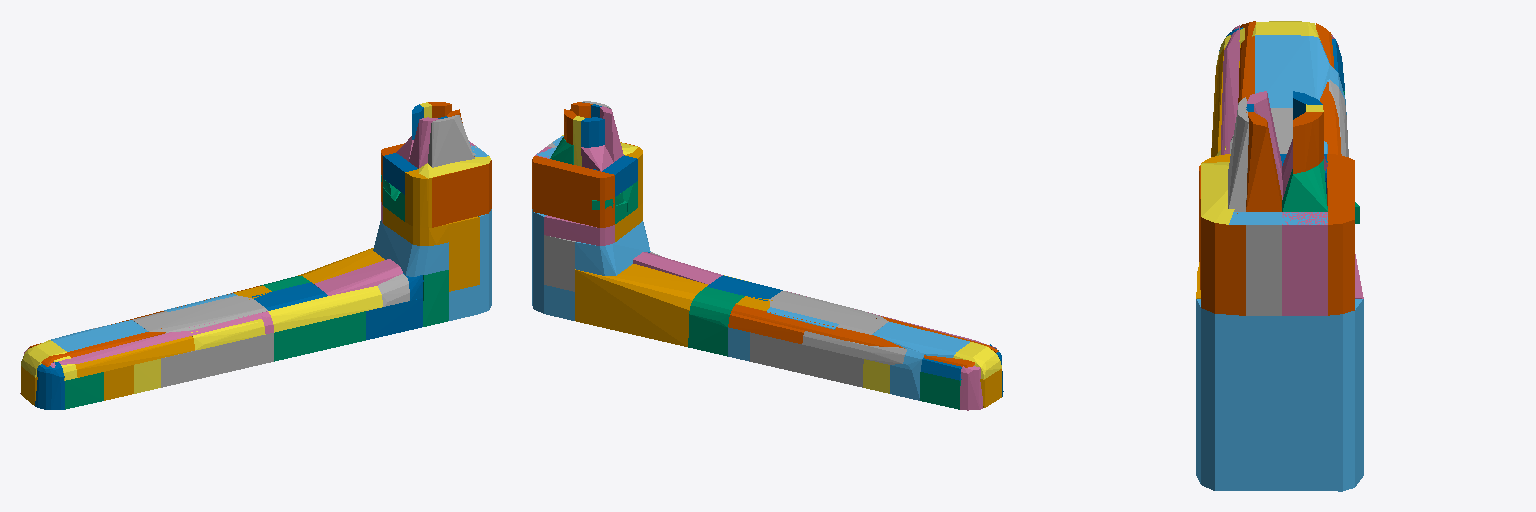
--- Facts derived from the render (not from the file) ---
Views: 3 orthographic renders of the robot side by side, from view 1: azimuth 30°, elevation 25°; view 2: azimuth 150°, elevation 25°; view 3: azimuth 270°, elevation 25°.
Robot: root — 64 links, 63 joints (63 fixed); root link link_handle~handle6_convex_piece_0; default pose: all joints at 0.
Visible links, largest first — view 1: link_handle~handle6_convex_piece_63, link_handle~handle6_convex_piece_21, link_handle~handle6_convex_piece_58, link_handle~handle6_convex_piece_35, link_handle~handle6_convex_piece_47, link_handle~handle6_convex_piece_49, link_handle~handle6_convex_piece_8, link_handle~handle6_convex_piece_55, link_handle~handle6_convex_piece_48, link_handle~handle6_convex_piece_44, link_handle~handle6_convex_piece_46, link_handle~handle6_convex_piece_38 (+19 smaller); view 2: link_handle~handle6_convex_piece_56, link_handle~handle6_convex_piece_45, link_handle~handle6_convex_piece_63, link_handle~handle6_convex_piece_34, link_handle~handle6_convex_piece_49, link_handle~handle6_convex_piece_47, link_handle~handle6_convex_piece_61, link_handle~handle6_convex_piece_41, link_handle~handle6_convex_piece_7, link_handle~handle6_convex_piece_22, link_handle~handle6_convex_piece_57, link_handle~handle6_convex_piece_25 (+17 smaller); view 3: link_handle~handle6_convex_piece_25, link_handle~handle6_convex_piece_6, link_handle~handle6_convex_piece_41, link_handle~handle6_convex_piece_45, link_handle~handle6_convex_piece_21, link_handle~handle6_convex_piece_15, link_handle~handle6_convex_piece_53, link_handle~handle6_convex_piece_55, link_handle~handle6_convex_piece_26, link_handle~handle6_convex_piece_29, link_handle~handle6_convex_piece_38, link_handle~handle6_convex_piece_43 (+7 smaller).
Boxes of the visible links, x1,y1,x2,y2 form: link_handle~handle6_convex_piece_63: (161,333,273,387); link_handle~handle6_convex_piece_21: (432,156,491,227); link_handle~handle6_convex_piece_58: (274,311,365,361); link_handle~handle6_convex_piece_35: (268,286,382,332); link_handle~handle6_convex_piece_47: (134,295,267,333); link_handle~handle6_convex_piece_49: (373,220,448,276); link_handle~handle6_convex_piece_8: (449,216,479,291); link_handle~handle6_convex_piece_55: (428,115,474,167); link_handle~handle6_convex_piece_48: (75,336,194,377); link_handle~handle6_convex_piece_44: (366,298,422,339); link_handle~handle6_convex_piece_46: (314,259,402,295); link_handle~handle6_convex_piece_38: (50,313,261,367); link_handle~handle6_convex_piece_56: (575,264,707,346); link_handle~handle6_convex_piece_45: (532,156,614,227); link_handle~handle6_convex_piece_63: (750,332,863,387); link_handle~handle6_convex_piece_34: (688,287,744,356); link_handle~handle6_convex_piece_49: (575,221,650,275); link_handle~handle6_convex_piece_47: (769,291,888,332); link_handle~handle6_convex_piece_61: (731,304,974,367); link_handle~handle6_convex_piece_41: (872,322,969,357); link_handle~handle6_convex_piece_7: (544,235,575,291); link_handle~handle6_convex_piece_22: (544,215,614,245); link_handle~handle6_convex_piece_57: (890,348,924,400); link_handle~handle6_convex_piece_25: (532,209,546,313); link_handle~handle6_convex_piece_25: (1196,299,1363,491); link_handle~handle6_convex_piece_6: (1282,212,1327,315); link_handle~handle6_convex_piece_41: (1255,35,1329,107); link_handle~handle6_convex_piece_45: (1327,154,1354,315); link_handle~handle6_convex_piece_21: (1199,166,1245,315); link_handle~handle6_convex_piece_15: (1246,225,1281,315); link_handle~handle6_convex_piece_53: (1246,112,1281,211); link_handle~handle6_convex_piece_55: (1228,97,1248,211); link_handle~handle6_convex_piece_26: (1282,159,1327,211); link_handle~handle6_convex_piece_29: (1293,112,1323,173); link_handle~handle6_convex_piece_38: (1221,25,1239,154); link_handle~handle6_convex_piece_43: (1201,162,1234,224).
Bounding box of the posed robot: 0.1277 × 0.0227 × 0.052 m (x, y, z).
64 mesh visuals loaded from 64 distinct referenced files (64 OBJ).

URDF robot description (root):
<robot name="root">
  <link name="link_handle~handle6_convex_piece_0">
    <inertial>
      <origin xyz="0 0 0" rpy="0 0 0"/>
      <mass value="9.66E-04"/>
      <inertia ixx="1.10E-07" ixy="-2.01E-07" ixz="-5.53E-07" iyy="3.87E-06" iyz="-3.13E-08" izz="3.80E-06"/>
    </inertial>
    <visual>
      <origin xyz="0 0 0" rpy="0 0 0"/>
      <geometry>
        <mesh filename="handle~handle6_convex_piece_0.obj" scale="1.0000E+00 1.0000E+00 1.0000E+00"/>
      </geometry>
      <material name=""/>
    </visual>
    <collision>
      <origin xyz="0 0 0" rpy="0 0 0"/>
      <geometry>
        <mesh filename="handle~handle6_convex_piece_0.obj" scale="1.0000E+00 1.0000E+00 1.0000E+00"/>
      </geometry>
    </collision>
  </link>
  <link name="link_handle~handle6_convex_piece_1">
    <inertial>
      <origin xyz="0 0 0" rpy="0 0 0"/>
      <mass value="5.49E-04"/>
      <inertia ixx="7.18E-08" ixy="4.76E-08" ixz="-7.96E-08" iyy="1.89E-07" iyz="2.88E-08" izz="1.57E-07"/>
    </inertial>
    <visual>
      <origin xyz="0 0 0" rpy="0 0 0"/>
      <geometry>
        <mesh filename="handle~handle6_convex_piece_1.obj" scale="1.0000E+00 1.0000E+00 1.0000E+00"/>
      </geometry>
      <material name=""/>
    </visual>
    <collision>
      <origin xyz="0 0 0" rpy="0 0 0"/>
      <geometry>
        <mesh filename="handle~handle6_convex_piece_1.obj" scale="1.0000E+00 1.0000E+00 1.0000E+00"/>
      </geometry>
    </collision>
  </link>
  <joint name="link_handle~handle6_convex_piece_1_joint" type="fixed">
    <origin xyz="0 0 0" rpy="0 0 0"/>
    <parent link="link_handle~handle6_convex_piece_0"/>
    <child link="link_handle~handle6_convex_piece_1"/>
  </joint>
  <link name="link_handle~handle6_convex_piece_2">
    <inertial>
      <origin xyz="0 0 0" rpy="0 0 0"/>
      <mass value="1.30E-03"/>
      <inertia ixx="1.38E-07" ixy="1.82E-07" ixz="2.47E-07" iyy="1.01E-06" iyz="-4.94E-08" izz="9.71E-07"/>
    </inertial>
    <visual>
      <origin xyz="0 0 0" rpy="0 0 0"/>
      <geometry>
        <mesh filename="handle~handle6_convex_piece_2.obj" scale="1.0000E+00 1.0000E+00 1.0000E+00"/>
      </geometry>
      <material name=""/>
    </visual>
    <collision>
      <origin xyz="0 0 0" rpy="0 0 0"/>
      <geometry>
        <mesh filename="handle~handle6_convex_piece_2.obj" scale="1.0000E+00 1.0000E+00 1.0000E+00"/>
      </geometry>
    </collision>
  </link>
  <joint name="link_handle~handle6_convex_piece_2_joint" type="fixed">
    <origin xyz="0 0 0" rpy="0 0 0"/>
    <parent link="link_handle~handle6_convex_piece_1"/>
    <child link="link_handle~handle6_convex_piece_2"/>
  </joint>
  <link name="link_handle~handle6_convex_piece_3">
    <inertial>
      <origin xyz="0 0 0" rpy="0 0 0"/>
      <mass value="1.32E-03"/>
      <inertia ixx="1.67E-07" ixy="3.47E-09" ixz="-6.91E-07" iyy="4.07E-06" iyz="2.85E-10" izz="3.97E-06"/>
    </inertial>
    <visual>
      <origin xyz="0 0 0" rpy="0 0 0"/>
      <geometry>
        <mesh filename="handle~handle6_convex_piece_3.obj" scale="1.0000E+00 1.0000E+00 1.0000E+00"/>
      </geometry>
      <material name=""/>
    </visual>
    <collision>
      <origin xyz="0 0 0" rpy="0 0 0"/>
      <geometry>
        <mesh filename="handle~handle6_convex_piece_3.obj" scale="1.0000E+00 1.0000E+00 1.0000E+00"/>
      </geometry>
    </collision>
  </link>
  <joint name="link_handle~handle6_convex_piece_3_joint" type="fixed">
    <origin xyz="0 0 0" rpy="0 0 0"/>
    <parent link="link_handle~handle6_convex_piece_2"/>
    <child link="link_handle~handle6_convex_piece_3"/>
  </joint>
  <link name="link_handle~handle6_convex_piece_4">
    <inertial>
      <origin xyz="0 0 0" rpy="0 0 0"/>
      <mass value="1.26E-04"/>
      <inertia ixx="9.52E-09" ixy="2.07E-08" ixz="8.66E-09" iyy="5.88E-08" iyz="-3.23E-09" izz="6.50E-08"/>
    </inertial>
    <visual>
      <origin xyz="0 0 0" rpy="0 0 0"/>
      <geometry>
        <mesh filename="handle~handle6_convex_piece_4.obj" scale="1.0000E+00 1.0000E+00 1.0000E+00"/>
      </geometry>
      <material name=""/>
    </visual>
    <collision>
      <origin xyz="0 0 0" rpy="0 0 0"/>
      <geometry>
        <mesh filename="handle~handle6_convex_piece_4.obj" scale="1.0000E+00 1.0000E+00 1.0000E+00"/>
      </geometry>
    </collision>
  </link>
  <joint name="link_handle~handle6_convex_piece_4_joint" type="fixed">
    <origin xyz="0 0 0" rpy="0 0 0"/>
    <parent link="link_handle~handle6_convex_piece_3"/>
    <child link="link_handle~handle6_convex_piece_4"/>
  </joint>
  <link name="link_handle~handle6_convex_piece_5">
    <inertial>
      <origin xyz="0 0 0" rpy="0 0 0"/>
      <mass value="6.37E-05"/>
      <inertia ixx="4.13E-09" ixy="-8.38E-09" ixz="-1.26E-08" iyy="7.22E-08" iyz="-1.53E-09" izz="7.01E-08"/>
    </inertial>
    <visual>
      <origin xyz="0 0 0" rpy="0 0 0"/>
      <geometry>
        <mesh filename="handle~handle6_convex_piece_5.obj" scale="1.0000E+00 1.0000E+00 1.0000E+00"/>
      </geometry>
      <material name=""/>
    </visual>
    <collision>
      <origin xyz="0 0 0" rpy="0 0 0"/>
      <geometry>
        <mesh filename="handle~handle6_convex_piece_5.obj" scale="1.0000E+00 1.0000E+00 1.0000E+00"/>
      </geometry>
    </collision>
  </link>
  <joint name="link_handle~handle6_convex_piece_5_joint" type="fixed">
    <origin xyz="0 0 0" rpy="0 0 0"/>
    <parent link="link_handle~handle6_convex_piece_4"/>
    <child link="link_handle~handle6_convex_piece_5"/>
  </joint>
  <link name="link_handle~handle6_convex_piece_6">
    <inertial>
      <origin xyz="0 0 0" rpy="0 0 0"/>
      <mass value="4.26E-04"/>
      <inertia ixx="1.64E-07" ixy="-5.77E-08" ixz="-3.39E-07" iyy="9.14E-07" iyz="-2.60E-08" izz="7.62E-07"/>
    </inertial>
    <visual>
      <origin xyz="0 0 0" rpy="0 0 0"/>
      <geometry>
        <mesh filename="handle~handle6_convex_piece_6.obj" scale="1.0000E+00 1.0000E+00 1.0000E+00"/>
      </geometry>
      <material name=""/>
    </visual>
    <collision>
      <origin xyz="0 0 0" rpy="0 0 0"/>
      <geometry>
        <mesh filename="handle~handle6_convex_piece_6.obj" scale="1.0000E+00 1.0000E+00 1.0000E+00"/>
      </geometry>
    </collision>
  </link>
  <joint name="link_handle~handle6_convex_piece_6_joint" type="fixed">
    <origin xyz="0 0 0" rpy="0 0 0"/>
    <parent link="link_handle~handle6_convex_piece_5"/>
    <child link="link_handle~handle6_convex_piece_6"/>
  </joint>
  <link name="link_handle~handle6_convex_piece_7">
    <inertial>
      <origin xyz="0 0 0" rpy="0 0 0"/>
      <mass value="7.29E-04"/>
      <inertia ixx="6.05E-08" ixy="-2.02E-07" ixz="-1.78E-08" iyy="8.79E-07" iyz="-3.95E-09" izz="9.18E-07"/>
    </inertial>
    <visual>
      <origin xyz="0 0 0" rpy="0 0 0"/>
      <geometry>
        <mesh filename="handle~handle6_convex_piece_7.obj" scale="1.0000E+00 1.0000E+00 1.0000E+00"/>
      </geometry>
      <material name=""/>
    </visual>
    <collision>
      <origin xyz="0 0 0" rpy="0 0 0"/>
      <geometry>
        <mesh filename="handle~handle6_convex_piece_7.obj" scale="1.0000E+00 1.0000E+00 1.0000E+00"/>
      </geometry>
    </collision>
  </link>
  <joint name="link_handle~handle6_convex_piece_7_joint" type="fixed">
    <origin xyz="0 0 0" rpy="0 0 0"/>
    <parent link="link_handle~handle6_convex_piece_6"/>
    <child link="link_handle~handle6_convex_piece_7"/>
  </joint>
  <link name="link_handle~handle6_convex_piece_8">
    <inertial>
      <origin xyz="0 0 0" rpy="0 0 0"/>
      <mass value="1.00E-03"/>
      <inertia ixx="1.05E-07" ixy="2.76E-07" ixz="-1.09E-07" iyy="1.23E-06" iyz="2.52E-08" izz="1.26E-06"/>
    </inertial>
    <visual>
      <origin xyz="0 0 0" rpy="0 0 0"/>
      <geometry>
        <mesh filename="handle~handle6_convex_piece_8.obj" scale="1.0000E+00 1.0000E+00 1.0000E+00"/>
      </geometry>
      <material name=""/>
    </visual>
    <collision>
      <origin xyz="0 0 0" rpy="0 0 0"/>
      <geometry>
        <mesh filename="handle~handle6_convex_piece_8.obj" scale="1.0000E+00 1.0000E+00 1.0000E+00"/>
      </geometry>
    </collision>
  </link>
  <joint name="link_handle~handle6_convex_piece_8_joint" type="fixed">
    <origin xyz="0 0 0" rpy="0 0 0"/>
    <parent link="link_handle~handle6_convex_piece_7"/>
    <child link="link_handle~handle6_convex_piece_8"/>
  </joint>
  <link name="link_handle~handle6_convex_piece_9">
    <inertial>
      <origin xyz="0 0 0" rpy="0 0 0"/>
      <mass value="0.00E+00"/>
      <inertia ixx="0.00E+00" ixy="-0.00E+00" ixz="-5.80E-23" iyy="0.00E+00" iyz="-0.00E+00" izz="0.00E+00"/>
    </inertial>
    <visual>
      <origin xyz="0 0 0" rpy="0 0 0"/>
      <geometry>
        <mesh filename="handle~handle6_convex_piece_9.obj" scale="1.0000E+00 1.0000E+00 1.0000E+00"/>
      </geometry>
      <material name=""/>
    </visual>
    <collision>
      <origin xyz="0 0 0" rpy="0 0 0"/>
      <geometry>
        <mesh filename="handle~handle6_convex_piece_9.obj" scale="1.0000E+00 1.0000E+00 1.0000E+00"/>
      </geometry>
    </collision>
  </link>
  <joint name="link_handle~handle6_convex_piece_9_joint" type="fixed">
    <origin xyz="0 0 0" rpy="0 0 0"/>
    <parent link="link_handle~handle6_convex_piece_8"/>
    <child link="link_handle~handle6_convex_piece_9"/>
  </joint>
  <link name="link_handle~handle6_convex_piece_10">
    <inertial>
      <origin xyz="0 0 0" rpy="0 0 0"/>
      <mass value="7.95E-05"/>
      <inertia ixx="2.95E-08" ixy="-1.14E-08" ixz="-3.44E-08" iyy="7.14E-08" iyz="-8.72E-09" izz="4.84E-08"/>
    </inertial>
    <visual>
      <origin xyz="0 0 0" rpy="0 0 0"/>
      <geometry>
        <mesh filename="handle~handle6_convex_piece_10.obj" scale="1.0000E+00 1.0000E+00 1.0000E+00"/>
      </geometry>
      <material name=""/>
    </visual>
    <collision>
      <origin xyz="0 0 0" rpy="0 0 0"/>
      <geometry>
        <mesh filename="handle~handle6_convex_piece_10.obj" scale="1.0000E+00 1.0000E+00 1.0000E+00"/>
      </geometry>
    </collision>
  </link>
  <joint name="link_handle~handle6_convex_piece_10_joint" type="fixed">
    <origin xyz="0 0 0" rpy="0 0 0"/>
    <parent link="link_handle~handle6_convex_piece_9"/>
    <child link="link_handle~handle6_convex_piece_10"/>
  </joint>
  <link name="link_handle~handle6_convex_piece_11">
    <inertial>
      <origin xyz="0 0 0" rpy="0 0 0"/>
      <mass value="1.10E-04"/>
      <inertia ixx="8.50E-08" ixy="-1.58E-08" ixz="-9.57E-08" iyy="2.02E-07" iyz="-1.29E-08" izz="1.21E-07"/>
    </inertial>
    <visual>
      <origin xyz="0 0 0" rpy="0 0 0"/>
      <geometry>
        <mesh filename="handle~handle6_convex_piece_11.obj" scale="1.0000E+00 1.0000E+00 1.0000E+00"/>
      </geometry>
      <material name=""/>
    </visual>
    <collision>
      <origin xyz="0 0 0" rpy="0 0 0"/>
      <geometry>
        <mesh filename="handle~handle6_convex_piece_11.obj" scale="1.0000E+00 1.0000E+00 1.0000E+00"/>
      </geometry>
    </collision>
  </link>
  <joint name="link_handle~handle6_convex_piece_11_joint" type="fixed">
    <origin xyz="0 0 0" rpy="0 0 0"/>
    <parent link="link_handle~handle6_convex_piece_10"/>
    <child link="link_handle~handle6_convex_piece_11"/>
  </joint>
  <link name="link_handle~handle6_convex_piece_12">
    <inertial>
      <origin xyz="0 0 0" rpy="0 0 0"/>
      <mass value="5.61E-05"/>
      <inertia ixx="4.03E-09" ixy="2.89E-08" ixz="-1.80E-08" iyy="2.95E-07" iyz="1.80E-09" izz="2.97E-07"/>
    </inertial>
    <visual>
      <origin xyz="0 0 0" rpy="0 0 0"/>
      <geometry>
        <mesh filename="handle~handle6_convex_piece_12.obj" scale="1.0000E+00 1.0000E+00 1.0000E+00"/>
      </geometry>
      <material name=""/>
    </visual>
    <collision>
      <origin xyz="0 0 0" rpy="0 0 0"/>
      <geometry>
        <mesh filename="handle~handle6_convex_piece_12.obj" scale="1.0000E+00 1.0000E+00 1.0000E+00"/>
      </geometry>
    </collision>
  </link>
  <joint name="link_handle~handle6_convex_piece_12_joint" type="fixed">
    <origin xyz="0 0 0" rpy="0 0 0"/>
    <parent link="link_handle~handle6_convex_piece_11"/>
    <child link="link_handle~handle6_convex_piece_12"/>
  </joint>
  <link name="link_handle~handle6_convex_piece_13">
    <inertial>
      <origin xyz="0 0 0" rpy="0 0 0"/>
      <mass value="1.04E-04"/>
      <inertia ixx="9.44E-09" ixy="1.99E-08" ixz="-1.05E-08" iyy="6.02E-08" iyz="3.88E-09" izz="6.54E-08"/>
    </inertial>
    <visual>
      <origin xyz="0 0 0" rpy="0 0 0"/>
      <geometry>
        <mesh filename="handle~handle6_convex_piece_13.obj" scale="1.0000E+00 1.0000E+00 1.0000E+00"/>
      </geometry>
      <material name=""/>
    </visual>
    <collision>
      <origin xyz="0 0 0" rpy="0 0 0"/>
      <geometry>
        <mesh filename="handle~handle6_convex_piece_13.obj" scale="1.0000E+00 1.0000E+00 1.0000E+00"/>
      </geometry>
    </collision>
  </link>
  <joint name="link_handle~handle6_convex_piece_13_joint" type="fixed">
    <origin xyz="0 0 0" rpy="0 0 0"/>
    <parent link="link_handle~handle6_convex_piece_12"/>
    <child link="link_handle~handle6_convex_piece_13"/>
  </joint>
  <link name="link_handle~handle6_convex_piece_14">
    <inertial>
      <origin xyz="0 0 0" rpy="0 0 0"/>
      <mass value="1.01E-04"/>
      <inertia ixx="1.33E-08" ixy="5.02E-08" ixz="-7.29E-08" iyy="6.50E-07" iyz="5.75E-09" izz="6.45E-07"/>
    </inertial>
    <visual>
      <origin xyz="0 0 0" rpy="0 0 0"/>
      <geometry>
        <mesh filename="handle~handle6_convex_piece_14.obj" scale="1.0000E+00 1.0000E+00 1.0000E+00"/>
      </geometry>
      <material name=""/>
    </visual>
    <collision>
      <origin xyz="0 0 0" rpy="0 0 0"/>
      <geometry>
        <mesh filename="handle~handle6_convex_piece_14.obj" scale="1.0000E+00 1.0000E+00 1.0000E+00"/>
      </geometry>
    </collision>
  </link>
  <joint name="link_handle~handle6_convex_piece_14_joint" type="fixed">
    <origin xyz="0 0 0" rpy="0 0 0"/>
    <parent link="link_handle~handle6_convex_piece_13"/>
    <child link="link_handle~handle6_convex_piece_14"/>
  </joint>
  <link name="link_handle~handle6_convex_piece_15">
    <inertial>
      <origin xyz="0 0 0" rpy="0 0 0"/>
      <mass value="6.59E-04"/>
      <inertia ixx="2.51E-07" ixy="5.80E-08" ixz="-4.97E-07" iyy="1.30E-06" iyz="2.77E-08" izz="1.06E-06"/>
    </inertial>
    <visual>
      <origin xyz="0 0 0" rpy="0 0 0"/>
      <geometry>
        <mesh filename="handle~handle6_convex_piece_15.obj" scale="1.0000E+00 1.0000E+00 1.0000E+00"/>
      </geometry>
      <material name=""/>
    </visual>
    <collision>
      <origin xyz="0 0 0" rpy="0 0 0"/>
      <geometry>
        <mesh filename="handle~handle6_convex_piece_15.obj" scale="1.0000E+00 1.0000E+00 1.0000E+00"/>
      </geometry>
    </collision>
  </link>
  <joint name="link_handle~handle6_convex_piece_15_joint" type="fixed">
    <origin xyz="0 0 0" rpy="0 0 0"/>
    <parent link="link_handle~handle6_convex_piece_14"/>
    <child link="link_handle~handle6_convex_piece_15"/>
  </joint>
  <link name="link_handle~handle6_convex_piece_16">
    <inertial>
      <origin xyz="0 0 0" rpy="0 0 0"/>
      <mass value="3.86E-04"/>
      <inertia ixx="4.54E-08" ixy="2.08E-08" ixz="-3.15E-07" iyy="2.54E-06" iyz="2.73E-09" izz="2.50E-06"/>
    </inertial>
    <visual>
      <origin xyz="0 0 0" rpy="0 0 0"/>
      <geometry>
        <mesh filename="handle~handle6_convex_piece_16.obj" scale="1.0000E+00 1.0000E+00 1.0000E+00"/>
      </geometry>
      <material name=""/>
    </visual>
    <collision>
      <origin xyz="0 0 0" rpy="0 0 0"/>
      <geometry>
        <mesh filename="handle~handle6_convex_piece_16.obj" scale="1.0000E+00 1.0000E+00 1.0000E+00"/>
      </geometry>
    </collision>
  </link>
  <joint name="link_handle~handle6_convex_piece_16_joint" type="fixed">
    <origin xyz="0 0 0" rpy="0 0 0"/>
    <parent link="link_handle~handle6_convex_piece_15"/>
    <child link="link_handle~handle6_convex_piece_16"/>
  </joint>
  <link name="link_handle~handle6_convex_piece_17">
    <inertial>
      <origin xyz="0 0 0" rpy="0 0 0"/>
      <mass value="1.62E-03"/>
      <inertia ixx="2.50E-07" ixy="-5.65E-10" ixz="5.82E-07" iyy="2.15E-06" iyz="1.60E-10" izz="2.04E-06"/>
    </inertial>
    <visual>
      <origin xyz="0 0 0" rpy="0 0 0"/>
      <geometry>
        <mesh filename="handle~handle6_convex_piece_17.obj" scale="1.0000E+00 1.0000E+00 1.0000E+00"/>
      </geometry>
      <material name=""/>
    </visual>
    <collision>
      <origin xyz="0 0 0" rpy="0 0 0"/>
      <geometry>
        <mesh filename="handle~handle6_convex_piece_17.obj" scale="1.0000E+00 1.0000E+00 1.0000E+00"/>
      </geometry>
    </collision>
  </link>
  <joint name="link_handle~handle6_convex_piece_17_joint" type="fixed">
    <origin xyz="0 0 0" rpy="0 0 0"/>
    <parent link="link_handle~handle6_convex_piece_16"/>
    <child link="link_handle~handle6_convex_piece_17"/>
  </joint>
  <link name="link_handle~handle6_convex_piece_18">
    <inertial>
      <origin xyz="0 0 0" rpy="0 0 0"/>
      <mass value="1.58E-03"/>
      <inertia ixx="2.16E-07" ixy="1.64E-09" ixz="-1.18E-06" iyy="8.41E-06" iyz="1.56E-10" izz="8.28E-06"/>
    </inertial>
    <visual>
      <origin xyz="0 0 0" rpy="0 0 0"/>
      <geometry>
        <mesh filename="handle~handle6_convex_piece_18.obj" scale="1.0000E+00 1.0000E+00 1.0000E+00"/>
      </geometry>
      <material name=""/>
    </visual>
    <collision>
      <origin xyz="0 0 0" rpy="0 0 0"/>
      <geometry>
        <mesh filename="handle~handle6_convex_piece_18.obj" scale="1.0000E+00 1.0000E+00 1.0000E+00"/>
      </geometry>
    </collision>
  </link>
  <joint name="link_handle~handle6_convex_piece_18_joint" type="fixed">
    <origin xyz="0 0 0" rpy="0 0 0"/>
    <parent link="link_handle~handle6_convex_piece_17"/>
    <child link="link_handle~handle6_convex_piece_18"/>
  </joint>
  <link name="link_handle~handle6_convex_piece_19">
    <inertial>
      <origin xyz="0 0 0" rpy="0 0 0"/>
      <mass value="3.68E-04"/>
      <inertia ixx="1.62E-08" ixy="1.65E-11" ixz="-4.61E-08" iyy="5.04E-07" iyz="1.56E-12" izz="4.93E-07"/>
    </inertial>
    <visual>
      <origin xyz="0 0 0" rpy="0 0 0"/>
      <geometry>
        <mesh filename="handle~handle6_convex_piece_19.obj" scale="1.0000E+00 1.0000E+00 1.0000E+00"/>
      </geometry>
      <material name=""/>
    </visual>
    <collision>
      <origin xyz="0 0 0" rpy="0 0 0"/>
      <geometry>
        <mesh filename="handle~handle6_convex_piece_19.obj" scale="1.0000E+00 1.0000E+00 1.0000E+00"/>
      </geometry>
    </collision>
  </link>
  <joint name="link_handle~handle6_convex_piece_19_joint" type="fixed">
    <origin xyz="0 0 0" rpy="0 0 0"/>
    <parent link="link_handle~handle6_convex_piece_18"/>
    <child link="link_handle~handle6_convex_piece_19"/>
  </joint>
  <link name="link_handle~handle6_convex_piece_20">
    <inertial>
      <origin xyz="0 0 0" rpy="0 0 0"/>
      <mass value="1.97E-04"/>
      <inertia ixx="2.43E-08" ixy="-8.39E-08" ixz="-1.43E-07" iyy="1.27E-06" iyz="-9.60E-09" izz="1.26E-06"/>
    </inertial>
    <visual>
      <origin xyz="0 0 0" rpy="0 0 0"/>
      <geometry>
        <mesh filename="handle~handle6_convex_piece_20.obj" scale="1.0000E+00 1.0000E+00 1.0000E+00"/>
      </geometry>
      <material name=""/>
    </visual>
    <collision>
      <origin xyz="0 0 0" rpy="0 0 0"/>
      <geometry>
        <mesh filename="handle~handle6_convex_piece_20.obj" scale="1.0000E+00 1.0000E+00 1.0000E+00"/>
      </geometry>
    </collision>
  </link>
  <joint name="link_handle~handle6_convex_piece_20_joint" type="fixed">
    <origin xyz="0 0 0" rpy="0 0 0"/>
    <parent link="link_handle~handle6_convex_piece_19"/>
    <child link="link_handle~handle6_convex_piece_20"/>
  </joint>
  <link name="link_handle~handle6_convex_piece_21">
    <inertial>
      <origin xyz="0 0 0" rpy="0 0 0"/>
      <mass value="1.69E-03"/>
      <inertia ixx="7.28E-07" ixy="4.37E-07" ixz="-1.09E-06" iyy="2.65E-06" iyz="2.41E-07" izz="2.13E-06"/>
    </inertial>
    <visual>
      <origin xyz="0 0 0" rpy="0 0 0"/>
      <geometry>
        <mesh filename="handle~handle6_convex_piece_21.obj" scale="1.0000E+00 1.0000E+00 1.0000E+00"/>
      </geometry>
      <material name=""/>
    </visual>
    <collision>
      <origin xyz="0 0 0" rpy="0 0 0"/>
      <geometry>
        <mesh filename="handle~handle6_convex_piece_21.obj" scale="1.0000E+00 1.0000E+00 1.0000E+00"/>
      </geometry>
    </collision>
  </link>
  <joint name="link_handle~handle6_convex_piece_21_joint" type="fixed">
    <origin xyz="0 0 0" rpy="0 0 0"/>
    <parent link="link_handle~handle6_convex_piece_20"/>
    <child link="link_handle~handle6_convex_piece_21"/>
  </joint>
  <link name="link_handle~handle6_convex_piece_22">
    <inertial>
      <origin xyz="0 0 0" rpy="0 0 0"/>
      <mass value="4.37E-04"/>
      <inertia ixx="7.14E-08" ixy="-1.10E-07" ixz="-1.32E-07" iyy="4.75E-07" iyz="-3.41E-08" izz="4.63E-07"/>
    </inertial>
    <visual>
      <origin xyz="0 0 0" rpy="0 0 0"/>
      <geometry>
        <mesh filename="handle~handle6_convex_piece_22.obj" scale="1.0000E+00 1.0000E+00 1.0000E+00"/>
      </geometry>
      <material name=""/>
    </visual>
    <collision>
      <origin xyz="0 0 0" rpy="0 0 0"/>
      <geometry>
        <mesh filename="handle~handle6_convex_piece_22.obj" scale="1.0000E+00 1.0000E+00 1.0000E+00"/>
      </geometry>
    </collision>
  </link>
  <joint name="link_handle~handle6_convex_piece_22_joint" type="fixed">
    <origin xyz="0 0 0" rpy="0 0 0"/>
    <parent link="link_handle~handle6_convex_piece_21"/>
    <child link="link_handle~handle6_convex_piece_22"/>
  </joint>
  <link name="link_handle~handle6_convex_piece_23">
    <inertial>
      <origin xyz="0 0 0" rpy="0 0 0"/>
      <mass value="5.21E-05"/>
      <inertia ixx="4.34E-09" ixy="2.30E-08" ixz="-1.30E-08" iyy="1.66E-07" iyz="1.86E-09" izz="1.68E-07"/>
    </inertial>
    <visual>
      <origin xyz="0 0 0" rpy="0 0 0"/>
      <geometry>
        <mesh filename="handle~handle6_convex_piece_23.obj" scale="1.0000E+00 1.0000E+00 1.0000E+00"/>
      </geometry>
      <material name=""/>
    </visual>
    <collision>
      <origin xyz="0 0 0" rpy="0 0 0"/>
      <geometry>
        <mesh filename="handle~handle6_convex_piece_23.obj" scale="1.0000E+00 1.0000E+00 1.0000E+00"/>
      </geometry>
    </collision>
  </link>
  <joint name="link_handle~handle6_convex_piece_23_joint" type="fixed">
    <origin xyz="0 0 0" rpy="0 0 0"/>
    <parent link="link_handle~handle6_convex_piece_22"/>
    <child link="link_handle~handle6_convex_piece_23"/>
  </joint>
  <link name="link_handle~handle6_convex_piece_24">
    <inertial>
      <origin xyz="0 0 0" rpy="0 0 0"/>
      <mass value="2.36E-04"/>
      <inertia ixx="1.08E-07" ixy="4.22E-08" ixz="-1.10E-07" iyy="2.28E-07" iyz="3.45E-08" izz="1.47E-07"/>
    </inertial>
    <visual>
      <origin xyz="0 0 0" rpy="0 0 0"/>
      <geometry>
        <mesh filename="handle~handle6_convex_piece_24.obj" scale="1.0000E+00 1.0000E+00 1.0000E+00"/>
      </geometry>
      <material name=""/>
    </visual>
    <collision>
      <origin xyz="0 0 0" rpy="0 0 0"/>
      <geometry>
        <mesh filename="handle~handle6_convex_piece_24.obj" scale="1.0000E+00 1.0000E+00 1.0000E+00"/>
      </geometry>
    </collision>
  </link>
  <joint name="link_handle~handle6_convex_piece_24_joint" type="fixed">
    <origin xyz="0 0 0" rpy="0 0 0"/>
    <parent link="link_handle~handle6_convex_piece_23"/>
    <child link="link_handle~handle6_convex_piece_24"/>
  </joint>
  <link name="link_handle~handle6_convex_piece_25">
    <inertial>
      <origin xyz="0 0 0" rpy="0 0 0"/>
      <mass value="2.85E-03"/>
      <inertia ixx="2.75E-07" ixy="-9.26E-11" ixz="1.26E-07" iyy="5.06E-06" iyz="-8.97E-12" izz="5.00E-06"/>
    </inertial>
    <visual>
      <origin xyz="0 0 0" rpy="0 0 0"/>
      <geometry>
        <mesh filename="handle~handle6_convex_piece_25.obj" scale="1.0000E+00 1.0000E+00 1.0000E+00"/>
      </geometry>
      <material name=""/>
    </visual>
    <collision>
      <origin xyz="0 0 0" rpy="0 0 0"/>
      <geometry>
        <mesh filename="handle~handle6_convex_piece_25.obj" scale="1.0000E+00 1.0000E+00 1.0000E+00"/>
      </geometry>
    </collision>
  </link>
  <joint name="link_handle~handle6_convex_piece_25_joint" type="fixed">
    <origin xyz="0 0 0" rpy="0 0 0"/>
    <parent link="link_handle~handle6_convex_piece_24"/>
    <child link="link_handle~handle6_convex_piece_25"/>
  </joint>
  <link name="link_handle~handle6_convex_piece_26">
    <inertial>
      <origin xyz="0 0 0" rpy="0 0 0"/>
      <mass value="5.97E-04"/>
      <inertia ixx="2.83E-07" ixy="-8.32E-08" ixz="-4.70E-07" iyy="1.13E-06" iyz="-4.53E-08" izz="8.68E-07"/>
    </inertial>
    <visual>
      <origin xyz="0 0 0" rpy="0 0 0"/>
      <geometry>
        <mesh filename="handle~handle6_convex_piece_26.obj" scale="1.0000E+00 1.0000E+00 1.0000E+00"/>
      </geometry>
      <material name=""/>
    </visual>
    <collision>
      <origin xyz="0 0 0" rpy="0 0 0"/>
      <geometry>
        <mesh filename="handle~handle6_convex_piece_26.obj" scale="1.0000E+00 1.0000E+00 1.0000E+00"/>
      </geometry>
    </collision>
  </link>
  <joint name="link_handle~handle6_convex_piece_26_joint" type="fixed">
    <origin xyz="0 0 0" rpy="0 0 0"/>
    <parent link="link_handle~handle6_convex_piece_25"/>
    <child link="link_handle~handle6_convex_piece_26"/>
  </joint>
  <link name="link_handle~handle6_convex_piece_27">
    <inertial>
      <origin xyz="0 0 0" rpy="0 0 0"/>
      <mass value="9.42E-05"/>
      <inertia ixx="8.77E-09" ixy="-2.44E-08" ixz="-1.29E-08" iyy="9.31E-08" iyz="-3.61E-09" izz="9.79E-08"/>
    </inertial>
    <visual>
      <origin xyz="0 0 0" rpy="0 0 0"/>
      <geometry>
        <mesh filename="handle~handle6_convex_piece_27.obj" scale="1.0000E+00 1.0000E+00 1.0000E+00"/>
      </geometry>
      <material name=""/>
    </visual>
    <collision>
      <origin xyz="0 0 0" rpy="0 0 0"/>
      <geometry>
        <mesh filename="handle~handle6_convex_piece_27.obj" scale="1.0000E+00 1.0000E+00 1.0000E+00"/>
      </geometry>
    </collision>
  </link>
  <joint name="link_handle~handle6_convex_piece_27_joint" type="fixed">
    <origin xyz="0 0 0" rpy="0 0 0"/>
    <parent link="link_handle~handle6_convex_piece_26"/>
    <child link="link_handle~handle6_convex_piece_27"/>
  </joint>
  <link name="link_handle~handle6_convex_piece_28">
    <inertial>
      <origin xyz="0 0 0" rpy="0 0 0"/>
      <mass value="7.24E-05"/>
      <inertia ixx="8.57E-08" ixy="-7.64E-09" ixz="-7.38E-08" iyy="1.49E-07" iyz="-8.68E-09" izz="6.56E-08"/>
    </inertial>
    <visual>
      <origin xyz="0 0 0" rpy="0 0 0"/>
      <geometry>
        <mesh filename="handle~handle6_convex_piece_28.obj" scale="1.0000E+00 1.0000E+00 1.0000E+00"/>
      </geometry>
      <material name=""/>
    </visual>
    <collision>
      <origin xyz="0 0 0" rpy="0 0 0"/>
      <geometry>
        <mesh filename="handle~handle6_convex_piece_28.obj" scale="1.0000E+00 1.0000E+00 1.0000E+00"/>
      </geometry>
    </collision>
  </link>
  <joint name="link_handle~handle6_convex_piece_28_joint" type="fixed">
    <origin xyz="0 0 0" rpy="0 0 0"/>
    <parent link="link_handle~handle6_convex_piece_27"/>
    <child link="link_handle~handle6_convex_piece_28"/>
  </joint>
  <link name="link_handle~handle6_convex_piece_29">
    <inertial>
      <origin xyz="0 0 0" rpy="0 0 0"/>
      <mass value="8.22E-05"/>
      <inertia ixx="9.76E-08" ixy="-1.06E-08" ixz="-1.02E-07" iyy="2.04E-07" iyz="-1.01E-08" izz="1.09E-07"/>
    </inertial>
    <visual>
      <origin xyz="0 0 0" rpy="0 0 0"/>
      <geometry>
        <mesh filename="handle~handle6_convex_piece_29.obj" scale="1.0000E+00 1.0000E+00 1.0000E+00"/>
      </geometry>
      <material name=""/>
    </visual>
    <collision>
      <origin xyz="0 0 0" rpy="0 0 0"/>
      <geometry>
        <mesh filename="handle~handle6_convex_piece_29.obj" scale="1.0000E+00 1.0000E+00 1.0000E+00"/>
      </geometry>
    </collision>
  </link>
  <joint name="link_handle~handle6_convex_piece_29_joint" type="fixed">
    <origin xyz="0 0 0" rpy="0 0 0"/>
    <parent link="link_handle~handle6_convex_piece_28"/>
    <child link="link_handle~handle6_convex_piece_29"/>
  </joint>
  <link name="link_handle~handle6_convex_piece_30">
    <inertial>
      <origin xyz="0 0 0" rpy="0 0 0"/>
      <mass value="2.30E-05"/>
      <inertia ixx="1.69E-09" ixy="-3.50E-09" ixz="-1.66E-09" iyy="9.55E-09" iyz="-6.54E-10" izz="1.06E-08"/>
    </inertial>
    <visual>
      <origin xyz="0 0 0" rpy="0 0 0"/>
      <geometry>
        <mesh filename="handle~handle6_convex_piece_30.obj" scale="1.0000E+00 1.0000E+00 1.0000E+00"/>
      </geometry>
      <material name=""/>
    </visual>
    <collision>
      <origin xyz="0 0 0" rpy="0 0 0"/>
      <geometry>
        <mesh filename="handle~handle6_convex_piece_30.obj" scale="1.0000E+00 1.0000E+00 1.0000E+00"/>
      </geometry>
    </collision>
  </link>
  <joint name="link_handle~handle6_convex_piece_30_joint" type="fixed">
    <origin xyz="0 0 0" rpy="0 0 0"/>
    <parent link="link_handle~handle6_convex_piece_29"/>
    <child link="link_handle~handle6_convex_piece_30"/>
  </joint>
  <link name="link_handle~handle6_convex_piece_31">
    <inertial>
      <origin xyz="0 0 0" rpy="0 0 0"/>
      <mass value="6.12E-05"/>
      <inertia ixx="5.96E-09" ixy="8.94E-09" ixz="3.44E-09" iyy="1.70E-08" iyz="-2.02E-09" izz="2.12E-08"/>
    </inertial>
    <visual>
      <origin xyz="0 0 0" rpy="0 0 0"/>
      <geometry>
        <mesh filename="handle~handle6_convex_piece_31.obj" scale="1.0000E+00 1.0000E+00 1.0000E+00"/>
      </geometry>
      <material name=""/>
    </visual>
    <collision>
      <origin xyz="0 0 0" rpy="0 0 0"/>
      <geometry>
        <mesh filename="handle~handle6_convex_piece_31.obj" scale="1.0000E+00 1.0000E+00 1.0000E+00"/>
      </geometry>
    </collision>
  </link>
  <joint name="link_handle~handle6_convex_piece_31_joint" type="fixed">
    <origin xyz="0 0 0" rpy="0 0 0"/>
    <parent link="link_handle~handle6_convex_piece_30"/>
    <child link="link_handle~handle6_convex_piece_31"/>
  </joint>
  <link name="link_handle~handle6_convex_piece_32">
    <inertial>
      <origin xyz="0 0 0" rpy="0 0 0"/>
      <mass value="7.07E-04"/>
      <inertia ixx="8.77E-08" ixy="4.75E-08" ixz="-1.80E-07" iyy="5.57E-07" iyz="1.71E-08" izz="5.09E-07"/>
    </inertial>
    <visual>
      <origin xyz="0 0 0" rpy="0 0 0"/>
      <geometry>
        <mesh filename="handle~handle6_convex_piece_32.obj" scale="1.0000E+00 1.0000E+00 1.0000E+00"/>
      </geometry>
      <material name=""/>
    </visual>
    <collision>
      <origin xyz="0 0 0" rpy="0 0 0"/>
      <geometry>
        <mesh filename="handle~handle6_convex_piece_32.obj" scale="1.0000E+00 1.0000E+00 1.0000E+00"/>
      </geometry>
    </collision>
  </link>
  <joint name="link_handle~handle6_convex_piece_32_joint" type="fixed">
    <origin xyz="0 0 0" rpy="0 0 0"/>
    <parent link="link_handle~handle6_convex_piece_31"/>
    <child link="link_handle~handle6_convex_piece_32"/>
  </joint>
  <link name="link_handle~handle6_convex_piece_33">
    <inertial>
      <origin xyz="0 0 0" rpy="0 0 0"/>
      <mass value="1.36E-04"/>
      <inertia ixx="6.46E-09" ixy="2.48E-08" ixz="-1.21E-08" iyy="1.31E-07" iyz="2.56E-09" izz="1.34E-07"/>
    </inertial>
    <visual>
      <origin xyz="0 0 0" rpy="0 0 0"/>
      <geometry>
        <mesh filename="handle~handle6_convex_piece_33.obj" scale="1.0000E+00 1.0000E+00 1.0000E+00"/>
      </geometry>
      <material name=""/>
    </visual>
    <collision>
      <origin xyz="0 0 0" rpy="0 0 0"/>
      <geometry>
        <mesh filename="handle~handle6_convex_piece_33.obj" scale="1.0000E+00 1.0000E+00 1.0000E+00"/>
      </geometry>
    </collision>
  </link>
  <joint name="link_handle~handle6_convex_piece_33_joint" type="fixed">
    <origin xyz="0 0 0" rpy="0 0 0"/>
    <parent link="link_handle~handle6_convex_piece_32"/>
    <child link="link_handle~handle6_convex_piece_33"/>
  </joint>
  <link name="link_handle~handle6_convex_piece_34">
    <inertial>
      <origin xyz="0 0 0" rpy="0 0 0"/>
      <mass value="1.24E-03"/>
      <inertia ixx="1.46E-07" ixy="4.99E-08" ixz="-7.10E-08" iyy="1.72E-07" iyz="5.89E-08" izz="1.22E-07"/>
    </inertial>
    <visual>
      <origin xyz="0 0 0" rpy="0 0 0"/>
      <geometry>
        <mesh filename="handle~handle6_convex_piece_34.obj" scale="1.0000E+00 1.0000E+00 1.0000E+00"/>
      </geometry>
      <material name=""/>
    </visual>
    <collision>
      <origin xyz="0 0 0" rpy="0 0 0"/>
      <geometry>
        <mesh filename="handle~handle6_convex_piece_34.obj" scale="1.0000E+00 1.0000E+00 1.0000E+00"/>
      </geometry>
    </collision>
  </link>
  <joint name="link_handle~handle6_convex_piece_34_joint" type="fixed">
    <origin xyz="0 0 0" rpy="0 0 0"/>
    <parent link="link_handle~handle6_convex_piece_33"/>
    <child link="link_handle~handle6_convex_piece_34"/>
  </joint>
  <link name="link_handle~handle6_convex_piece_35">
    <inertial>
      <origin xyz="0 0 0" rpy="0 0 0"/>
      <mass value="1.69E-04"/>
      <inertia ixx="1.62E-08" ixy="-4.47E-09" ixz="-2.24E-09" iyy="1.75E-08" iyz="-6.09E-09" izz="2.78E-08"/>
    </inertial>
    <visual>
      <origin xyz="0 0 0" rpy="0 0 0"/>
      <geometry>
        <mesh filename="handle~handle6_convex_piece_35.obj" scale="1.0000E+00 1.0000E+00 1.0000E+00"/>
      </geometry>
      <material name=""/>
    </visual>
    <collision>
      <origin xyz="0 0 0" rpy="0 0 0"/>
      <geometry>
        <mesh filename="handle~handle6_convex_piece_35.obj" scale="1.0000E+00 1.0000E+00 1.0000E+00"/>
      </geometry>
    </collision>
  </link>
  <joint name="link_handle~handle6_convex_piece_35_joint" type="fixed">
    <origin xyz="0 0 0" rpy="0 0 0"/>
    <parent link="link_handle~handle6_convex_piece_34"/>
    <child link="link_handle~handle6_convex_piece_35"/>
  </joint>
  <link name="link_handle~handle6_convex_piece_36">
    <inertial>
      <origin xyz="0 0 0" rpy="0 0 0"/>
      <mass value="4.37E-04"/>
      <inertia ixx="1.49E-08" ixy="-1.83E-08" ixz="-1.32E-08" iyy="6.02E-08" iyz="-6.14E-09" izz="6.64E-08"/>
    </inertial>
    <visual>
      <origin xyz="0 0 0" rpy="0 0 0"/>
      <geometry>
        <mesh filename="handle~handle6_convex_piece_36.obj" scale="1.0000E+00 1.0000E+00 1.0000E+00"/>
      </geometry>
      <material name=""/>
    </visual>
    <collision>
      <origin xyz="0 0 0" rpy="0 0 0"/>
      <geometry>
        <mesh filename="handle~handle6_convex_piece_36.obj" scale="1.0000E+00 1.0000E+00 1.0000E+00"/>
      </geometry>
    </collision>
  </link>
  <joint name="link_handle~handle6_convex_piece_36_joint" type="fixed">
    <origin xyz="0 0 0" rpy="0 0 0"/>
    <parent link="link_handle~handle6_convex_piece_35"/>
    <child link="link_handle~handle6_convex_piece_36"/>
  </joint>
  <link name="link_handle~handle6_convex_piece_37">
    <inertial>
      <origin xyz="0 0 0" rpy="0 0 0"/>
      <mass value="8.27E-05"/>
      <inertia ixx="1.98E-09" ixy="-2.26E-08" ixz="-1.14E-08" iyy="3.39E-07" iyz="-7.80E-10" izz="3.41E-07"/>
    </inertial>
    <visual>
      <origin xyz="0 0 0" rpy="0 0 0"/>
      <geometry>
        <mesh filename="handle~handle6_convex_piece_37.obj" scale="1.0000E+00 1.0000E+00 1.0000E+00"/>
      </geometry>
      <material name=""/>
    </visual>
    <collision>
      <origin xyz="0 0 0" rpy="0 0 0"/>
      <geometry>
        <mesh filename="handle~handle6_convex_piece_37.obj" scale="1.0000E+00 1.0000E+00 1.0000E+00"/>
      </geometry>
    </collision>
  </link>
  <joint name="link_handle~handle6_convex_piece_37_joint" type="fixed">
    <origin xyz="0 0 0" rpy="0 0 0"/>
    <parent link="link_handle~handle6_convex_piece_36"/>
    <child link="link_handle~handle6_convex_piece_37"/>
  </joint>
  <link name="link_handle~handle6_convex_piece_38">
    <inertial>
      <origin xyz="0 0 0" rpy="0 0 0"/>
      <mass value="7.99E-05"/>
      <inertia ixx="4.12E-09" ixy="-2.59E-08" ixz="-1.02E-08" iyy="2.11E-07" iyz="-1.37E-09" izz="2.14E-07"/>
    </inertial>
    <visual>
      <origin xyz="0 0 0" rpy="0 0 0"/>
      <geometry>
        <mesh filename="handle~handle6_convex_piece_38.obj" scale="1.0000E+00 1.0000E+00 1.0000E+00"/>
      </geometry>
      <material name=""/>
    </visual>
    <collision>
      <origin xyz="0 0 0" rpy="0 0 0"/>
      <geometry>
        <mesh filename="handle~handle6_convex_piece_38.obj" scale="1.0000E+00 1.0000E+00 1.0000E+00"/>
      </geometry>
    </collision>
  </link>
  <joint name="link_handle~handle6_convex_piece_38_joint" type="fixed">
    <origin xyz="0 0 0" rpy="0 0 0"/>
    <parent link="link_handle~handle6_convex_piece_37"/>
    <child link="link_handle~handle6_convex_piece_38"/>
  </joint>
  <link name="link_handle~handle6_convex_piece_39">
    <inertial>
      <origin xyz="0 0 0" rpy="0 0 0"/>
      <mass value="1.60E-04"/>
      <inertia ixx="1.03E-08" ixy="4.69E-08" ixz="-2.39E-08" iyy="2.89E-07" iyz="4.18E-09" izz="2.95E-07"/>
    </inertial>
    <visual>
      <origin xyz="0 0 0" rpy="0 0 0"/>
      <geometry>
        <mesh filename="handle~handle6_convex_piece_39.obj" scale="1.0000E+00 1.0000E+00 1.0000E+00"/>
      </geometry>
      <material name=""/>
    </visual>
    <collision>
      <origin xyz="0 0 0" rpy="0 0 0"/>
      <geometry>
        <mesh filename="handle~handle6_convex_piece_39.obj" scale="1.0000E+00 1.0000E+00 1.0000E+00"/>
      </geometry>
    </collision>
  </link>
  <joint name="link_handle~handle6_convex_piece_39_joint" type="fixed">
    <origin xyz="0 0 0" rpy="0 0 0"/>
    <parent link="link_handle~handle6_convex_piece_38"/>
    <child link="link_handle~handle6_convex_piece_39"/>
  </joint>
  <link name="link_handle~handle6_convex_piece_40">
    <inertial>
      <origin xyz="0 0 0" rpy="0 0 0"/>
      <mass value="1.46E-04"/>
      <inertia ixx="5.47E-09" ixy="1.20E-08" ixz="-7.54E-09" iyy="4.51E-08" iyz="2.35E-09" izz="4.75E-08"/>
    </inertial>
    <visual>
      <origin xyz="0 0 0" rpy="0 0 0"/>
      <geometry>
        <mesh filename="handle~handle6_convex_piece_40.obj" scale="1.0000E+00 1.0000E+00 1.0000E+00"/>
      </geometry>
      <material name=""/>
    </visual>
    <collision>
      <origin xyz="0 0 0" rpy="0 0 0"/>
      <geometry>
        <mesh filename="handle~handle6_convex_piece_40.obj" scale="1.0000E+00 1.0000E+00 1.0000E+00"/>
      </geometry>
    </collision>
  </link>
  <joint name="link_handle~handle6_convex_piece_40_joint" type="fixed">
    <origin xyz="0 0 0" rpy="0 0 0"/>
    <parent link="link_handle~handle6_convex_piece_39"/>
    <child link="link_handle~handle6_convex_piece_40"/>
  </joint>
  <link name="link_handle~handle6_convex_piece_41">
    <inertial>
      <origin xyz="0 0 0" rpy="0 0 0"/>
      <mass value="6.87E-04"/>
      <inertia ixx="1.81E-08" ixy="1.18E-07" ixz="-1.31E-07" iyy="2.73E-06" iyz="7.14E-09" izz="2.73E-06"/>
    </inertial>
    <visual>
      <origin xyz="0 0 0" rpy="0 0 0"/>
      <geometry>
        <mesh filename="handle~handle6_convex_piece_41.obj" scale="1.0000E+00 1.0000E+00 1.0000E+00"/>
      </geometry>
      <material name=""/>
    </visual>
    <collision>
      <origin xyz="0 0 0" rpy="0 0 0"/>
      <geometry>
        <mesh filename="handle~handle6_convex_piece_41.obj" scale="1.0000E+00 1.0000E+00 1.0000E+00"/>
      </geometry>
    </collision>
  </link>
  <joint name="link_handle~handle6_convex_piece_41_joint" type="fixed">
    <origin xyz="0 0 0" rpy="0 0 0"/>
    <parent link="link_handle~handle6_convex_piece_40"/>
    <child link="link_handle~handle6_convex_piece_41"/>
  </joint>
  <link name="link_handle~handle6_convex_piece_42">
    <inertial>
      <origin xyz="0 0 0" rpy="0 0 0"/>
      <mass value="3.02E-04"/>
      <inertia ixx="7.59E-08" ixy="1.97E-08" ixz="-1.23E-07" iyy="2.85E-07" iyz="1.18E-08" izz="2.14E-07"/>
    </inertial>
    <visual>
      <origin xyz="0 0 0" rpy="0 0 0"/>
      <geometry>
        <mesh filename="handle~handle6_convex_piece_42.obj" scale="1.0000E+00 1.0000E+00 1.0000E+00"/>
      </geometry>
      <material name=""/>
    </visual>
    <collision>
      <origin xyz="0 0 0" rpy="0 0 0"/>
      <geometry>
        <mesh filename="handle~handle6_convex_piece_42.obj" scale="1.0000E+00 1.0000E+00 1.0000E+00"/>
      </geometry>
    </collision>
  </link>
  <joint name="link_handle~handle6_convex_piece_42_joint" type="fixed">
    <origin xyz="0 0 0" rpy="0 0 0"/>
    <parent link="link_handle~handle6_convex_piece_41"/>
    <child link="link_handle~handle6_convex_piece_42"/>
  </joint>
  <link name="link_handle~handle6_convex_piece_43">
    <inertial>
      <origin xyz="0 0 0" rpy="0 0 0"/>
      <mass value="4.19E-05"/>
      <inertia ixx="3.05E-08" ixy="9.54E-09" ixz="-3.51E-08" iyy="7.27E-08" iyz="7.64E-09" izz="4.65E-08"/>
    </inertial>
    <visual>
      <origin xyz="0 0 0" rpy="0 0 0"/>
      <geometry>
        <mesh filename="handle~handle6_convex_piece_43.obj" scale="1.0000E+00 1.0000E+00 1.0000E+00"/>
      </geometry>
      <material name=""/>
    </visual>
    <collision>
      <origin xyz="0 0 0" rpy="0 0 0"/>
      <geometry>
        <mesh filename="handle~handle6_convex_piece_43.obj" scale="1.0000E+00 1.0000E+00 1.0000E+00"/>
      </geometry>
    </collision>
  </link>
  <joint name="link_handle~handle6_convex_piece_43_joint" type="fixed">
    <origin xyz="0 0 0" rpy="0 0 0"/>
    <parent link="link_handle~handle6_convex_piece_42"/>
    <child link="link_handle~handle6_convex_piece_43"/>
  </joint>
  <link name="link_handle~handle6_convex_piece_44">
    <inertial>
      <origin xyz="0 0 0" rpy="0 0 0"/>
      <mass value="1.75E-03"/>
      <inertia ixx="2.36E-07" ixy="1.32E-07" ixz="2.51E-07" iyy="5.95E-07" iyz="-8.61E-08" izz="4.83E-07"/>
    </inertial>
    <visual>
      <origin xyz="0 0 0" rpy="0 0 0"/>
      <geometry>
        <mesh filename="handle~handle6_convex_piece_44.obj" scale="1.0000E+00 1.0000E+00 1.0000E+00"/>
      </geometry>
      <material name=""/>
    </visual>
    <collision>
      <origin xyz="0 0 0" rpy="0 0 0"/>
      <geometry>
        <mesh filename="handle~handle6_convex_piece_44.obj" scale="1.0000E+00 1.0000E+00 1.0000E+00"/>
      </geometry>
    </collision>
  </link>
  <joint name="link_handle~handle6_convex_piece_44_joint" type="fixed">
    <origin xyz="0 0 0" rpy="0 0 0"/>
    <parent link="link_handle~handle6_convex_piece_43"/>
    <child link="link_handle~handle6_convex_piece_44"/>
  </joint>
  <link name="link_handle~handle6_convex_piece_45">
    <inertial>
      <origin xyz="0 0 0" rpy="0 0 0"/>
      <mass value="1.14E-03"/>
      <inertia ixx="5.04E-07" ixy="-3.11E-07" ixz="-7.15E-07" iyy="1.72E-06" iyz="-1.77E-07" izz="1.37E-06"/>
    </inertial>
    <visual>
      <origin xyz="0 0 0" rpy="0 0 0"/>
      <geometry>
        <mesh filename="handle~handle6_convex_piece_45.obj" scale="1.0000E+00 1.0000E+00 1.0000E+00"/>
      </geometry>
      <material name=""/>
    </visual>
    <collision>
      <origin xyz="0 0 0" rpy="0 0 0"/>
      <geometry>
        <mesh filename="handle~handle6_convex_piece_45.obj" scale="1.0000E+00 1.0000E+00 1.0000E+00"/>
      </geometry>
    </collision>
  </link>
  <joint name="link_handle~handle6_convex_piece_45_joint" type="fixed">
    <origin xyz="0 0 0" rpy="0 0 0"/>
    <parent link="link_handle~handle6_convex_piece_44"/>
    <child link="link_handle~handle6_convex_piece_45"/>
  </joint>
  <link name="link_handle~handle6_convex_piece_46">
    <inertial>
      <origin xyz="0 0 0" rpy="0 0 0"/>
      <mass value="1.04E-03"/>
      <inertia ixx="3.66E-08" ixy="4.78E-08" ixz="3.91E-08" iyy="2.03E-07" iyz="-1.46E-08" izz="2.13E-07"/>
    </inertial>
    <visual>
      <origin xyz="0 0 0" rpy="0 0 0"/>
      <geometry>
        <mesh filename="handle~handle6_convex_piece_46.obj" scale="1.0000E+00 1.0000E+00 1.0000E+00"/>
      </geometry>
      <material name=""/>
    </visual>
    <collision>
      <origin xyz="0 0 0" rpy="0 0 0"/>
      <geometry>
        <mesh filename="handle~handle6_convex_piece_46.obj" scale="1.0000E+00 1.0000E+00 1.0000E+00"/>
      </geometry>
    </collision>
  </link>
  <joint name="link_handle~handle6_convex_piece_46_joint" type="fixed">
    <origin xyz="0 0 0" rpy="0 0 0"/>
    <parent link="link_handle~handle6_convex_piece_45"/>
    <child link="link_handle~handle6_convex_piece_46"/>
  </joint>
  <link name="link_handle~handle6_convex_piece_47">
    <inertial>
      <origin xyz="0 0 0" rpy="0 0 0"/>
      <mass value="1.02E-03"/>
      <inertia ixx="2.81E-08" ixy="-9.16E-08" ixz="-1.05E-07" iyy="1.31E-06" iyz="-1.03E-08" izz="1.31E-06"/>
    </inertial>
    <visual>
      <origin xyz="0 0 0" rpy="0 0 0"/>
      <geometry>
        <mesh filename="handle~handle6_convex_piece_47.obj" scale="1.0000E+00 1.0000E+00 1.0000E+00"/>
      </geometry>
      <material name=""/>
    </visual>
    <collision>
      <origin xyz="0 0 0" rpy="0 0 0"/>
      <geometry>
        <mesh filename="handle~handle6_convex_piece_47.obj" scale="1.0000E+00 1.0000E+00 1.0000E+00"/>
      </geometry>
    </collision>
  </link>
  <joint name="link_handle~handle6_convex_piece_47_joint" type="fixed">
    <origin xyz="0 0 0" rpy="0 0 0"/>
    <parent link="link_handle~handle6_convex_piece_46"/>
    <child link="link_handle~handle6_convex_piece_47"/>
  </joint>
  <link name="link_handle~handle6_convex_piece_48">
    <inertial>
      <origin xyz="0 0 0" rpy="0 0 0"/>
      <mass value="2.59E-04"/>
      <inertia ixx="1.71E-08" ixy="-1.02E-07" ixz="-5.98E-08" iyy="8.84E-07" iyz="-7.39E-09" izz="8.92E-07"/>
    </inertial>
    <visual>
      <origin xyz="0 0 0" rpy="0 0 0"/>
      <geometry>
        <mesh filename="handle~handle6_convex_piece_48.obj" scale="1.0000E+00 1.0000E+00 1.0000E+00"/>
      </geometry>
      <material name=""/>
    </visual>
    <collision>
      <origin xyz="0 0 0" rpy="0 0 0"/>
      <geometry>
        <mesh filename="handle~handle6_convex_piece_48.obj" scale="1.0000E+00 1.0000E+00 1.0000E+00"/>
      </geometry>
    </collision>
  </link>
  <joint name="link_handle~handle6_convex_piece_48_joint" type="fixed">
    <origin xyz="0 0 0" rpy="0 0 0"/>
    <parent link="link_handle~handle6_convex_piece_47"/>
    <child link="link_handle~handle6_convex_piece_48"/>
  </joint>
  <link name="link_handle~handle6_convex_piece_49">
    <inertial>
      <origin xyz="0 0 0" rpy="0 0 0"/>
      <mass value="1.62E-03"/>
      <inertia ixx="8.37E-08" ixy="2.53E-09" ixz="-1.36E-07" iyy="1.11E-06" iyz="2.82E-10" izz="1.14E-06"/>
    </inertial>
    <visual>
      <origin xyz="0 0 0" rpy="0 0 0"/>
      <geometry>
        <mesh filename="handle~handle6_convex_piece_49.obj" scale="1.0000E+00 1.0000E+00 1.0000E+00"/>
      </geometry>
      <material name=""/>
    </visual>
    <collision>
      <origin xyz="0 0 0" rpy="0 0 0"/>
      <geometry>
        <mesh filename="handle~handle6_convex_piece_49.obj" scale="1.0000E+00 1.0000E+00 1.0000E+00"/>
      </geometry>
    </collision>
  </link>
  <joint name="link_handle~handle6_convex_piece_49_joint" type="fixed">
    <origin xyz="0 0 0" rpy="0 0 0"/>
    <parent link="link_handle~handle6_convex_piece_48"/>
    <child link="link_handle~handle6_convex_piece_49"/>
  </joint>
  <link name="link_handle~handle6_convex_piece_50">
    <inertial>
      <origin xyz="0 0 0" rpy="0 0 0"/>
      <mass value="2.92E-04"/>
      <inertia ixx="7.21E-08" ixy="-2.46E-08" ixz="-1.17E-07" iyy="2.72E-07" iyz="-1.44E-08" izz="2.07E-07"/>
    </inertial>
    <visual>
      <origin xyz="0 0 0" rpy="0 0 0"/>
      <geometry>
        <mesh filename="handle~handle6_convex_piece_50.obj" scale="1.0000E+00 1.0000E+00 1.0000E+00"/>
      </geometry>
      <material name=""/>
    </visual>
    <collision>
      <origin xyz="0 0 0" rpy="0 0 0"/>
      <geometry>
        <mesh filename="handle~handle6_convex_piece_50.obj" scale="1.0000E+00 1.0000E+00 1.0000E+00"/>
      </geometry>
    </collision>
  </link>
  <joint name="link_handle~handle6_convex_piece_50_joint" type="fixed">
    <origin xyz="0 0 0" rpy="0 0 0"/>
    <parent link="link_handle~handle6_convex_piece_49"/>
    <child link="link_handle~handle6_convex_piece_50"/>
  </joint>
  <link name="link_handle~handle6_convex_piece_51">
    <inertial>
      <origin xyz="0 0 0" rpy="0 0 0"/>
      <mass value="4.64E-04"/>
      <inertia ixx="1.52E-08" ixy="-1.63E-08" ixz="-1.52E-07" iyy="2.82E-06" iyz="-1.07E-09" izz="2.82E-06"/>
    </inertial>
    <visual>
      <origin xyz="0 0 0" rpy="0 0 0"/>
      <geometry>
        <mesh filename="handle~handle6_convex_piece_51.obj" scale="1.0000E+00 1.0000E+00 1.0000E+00"/>
      </geometry>
      <material name=""/>
    </visual>
    <collision>
      <origin xyz="0 0 0" rpy="0 0 0"/>
      <geometry>
        <mesh filename="handle~handle6_convex_piece_51.obj" scale="1.0000E+00 1.0000E+00 1.0000E+00"/>
      </geometry>
    </collision>
  </link>
  <joint name="link_handle~handle6_convex_piece_51_joint" type="fixed">
    <origin xyz="0 0 0" rpy="0 0 0"/>
    <parent link="link_handle~handle6_convex_piece_50"/>
    <child link="link_handle~handle6_convex_piece_51"/>
  </joint>
  <link name="link_handle~handle6_convex_piece_52">
    <inertial>
      <origin xyz="0 0 0" rpy="0 0 0"/>
      <mass value="1.82E-04"/>
      <inertia ixx="7.00E-08" ixy="2.41E-08" ixz="-9.36E-08" iyy="2.65E-07" iyz="1.15E-08" izz="2.00E-07"/>
    </inertial>
    <visual>
      <origin xyz="0 0 0" rpy="0 0 0"/>
      <geometry>
        <mesh filename="handle~handle6_convex_piece_52.obj" scale="1.0000E+00 1.0000E+00 1.0000E+00"/>
      </geometry>
      <material name=""/>
    </visual>
    <collision>
      <origin xyz="0 0 0" rpy="0 0 0"/>
      <geometry>
        <mesh filename="handle~handle6_convex_piece_52.obj" scale="1.0000E+00 1.0000E+00 1.0000E+00"/>
      </geometry>
    </collision>
  </link>
  <joint name="link_handle~handle6_convex_piece_52_joint" type="fixed">
    <origin xyz="0 0 0" rpy="0 0 0"/>
    <parent link="link_handle~handle6_convex_piece_51"/>
    <child link="link_handle~handle6_convex_piece_52"/>
  </joint>
  <link name="link_handle~handle6_convex_piece_53">
    <inertial>
      <origin xyz="0 0 0" rpy="0 0 0"/>
      <mass value="2.14E-04"/>
      <inertia ixx="2.05E-07" ixy="2.10E-08" ixz="-2.44E-07" iyy="5.00E-07" iyz="1.75E-08" izz="2.98E-07"/>
    </inertial>
    <visual>
      <origin xyz="0 0 0" rpy="0 0 0"/>
      <geometry>
        <mesh filename="handle~handle6_convex_piece_53.obj" scale="1.0000E+00 1.0000E+00 1.0000E+00"/>
      </geometry>
      <material name=""/>
    </visual>
    <collision>
      <origin xyz="0 0 0" rpy="0 0 0"/>
      <geometry>
        <mesh filename="handle~handle6_convex_piece_53.obj" scale="1.0000E+00 1.0000E+00 1.0000E+00"/>
      </geometry>
    </collision>
  </link>
  <joint name="link_handle~handle6_convex_piece_53_joint" type="fixed">
    <origin xyz="0 0 0" rpy="0 0 0"/>
    <parent link="link_handle~handle6_convex_piece_52"/>
    <child link="link_handle~handle6_convex_piece_53"/>
  </joint>
  <link name="link_handle~handle6_convex_piece_54">
    <inertial>
      <origin xyz="0 0 0" rpy="0 0 0"/>
      <mass value="3.63E-04"/>
      <inertia ixx="2.85E-07" ixy="2.64E-08" ixz="-2.86E-07" iyy="5.80E-07" iyz="2.55E-08" izz="3.00E-07"/>
    </inertial>
    <visual>
      <origin xyz="0 0 0" rpy="0 0 0"/>
      <geometry>
        <mesh filename="handle~handle6_convex_piece_54.obj" scale="1.0000E+00 1.0000E+00 1.0000E+00"/>
      </geometry>
      <material name=""/>
    </visual>
    <collision>
      <origin xyz="0 0 0" rpy="0 0 0"/>
      <geometry>
        <mesh filename="handle~handle6_convex_piece_54.obj" scale="1.0000E+00 1.0000E+00 1.0000E+00"/>
      </geometry>
    </collision>
  </link>
  <joint name="link_handle~handle6_convex_piece_54_joint" type="fixed">
    <origin xyz="0 0 0" rpy="0 0 0"/>
    <parent link="link_handle~handle6_convex_piece_53"/>
    <child link="link_handle~handle6_convex_piece_54"/>
  </joint>
  <link name="link_handle~handle6_convex_piece_55">
    <inertial>
      <origin xyz="0 0 0" rpy="0 0 0"/>
      <mass value="2.66E-04"/>
      <inertia ixx="2.58E-07" ixy="4.80E-08" ixz="-2.73E-07" iyy="5.54E-07" iyz="4.32E-08" izz="3.12E-07"/>
    </inertial>
    <visual>
      <origin xyz="0 0 0" rpy="0 0 0"/>
      <geometry>
        <mesh filename="handle~handle6_convex_piece_55.obj" scale="1.0000E+00 1.0000E+00 1.0000E+00"/>
      </geometry>
      <material name=""/>
    </visual>
    <collision>
      <origin xyz="0 0 0" rpy="0 0 0"/>
      <geometry>
        <mesh filename="handle~handle6_convex_piece_55.obj" scale="1.0000E+00 1.0000E+00 1.0000E+00"/>
      </geometry>
    </collision>
  </link>
  <joint name="link_handle~handle6_convex_piece_55_joint" type="fixed">
    <origin xyz="0 0 0" rpy="0 0 0"/>
    <parent link="link_handle~handle6_convex_piece_54"/>
    <child link="link_handle~handle6_convex_piece_55"/>
  </joint>
  <link name="link_handle~handle6_convex_piece_56">
    <inertial>
      <origin xyz="0 0 0" rpy="0 0 0"/>
      <mass value="4.65E-03"/>
      <inertia ixx="5.23E-07" ixy="-3.92E-07" ixz="5.21E-07" iyy="1.78E-06" iyz="1.96E-07" izz="1.62E-06"/>
    </inertial>
    <visual>
      <origin xyz="0 0 0" rpy="0 0 0"/>
      <geometry>
        <mesh filename="handle~handle6_convex_piece_56.obj" scale="1.0000E+00 1.0000E+00 1.0000E+00"/>
      </geometry>
      <material name=""/>
    </visual>
    <collision>
      <origin xyz="0 0 0" rpy="0 0 0"/>
      <geometry>
        <mesh filename="handle~handle6_convex_piece_56.obj" scale="1.0000E+00 1.0000E+00 1.0000E+00"/>
      </geometry>
    </collision>
  </link>
  <joint name="link_handle~handle6_convex_piece_56_joint" type="fixed">
    <origin xyz="0 0 0" rpy="0 0 0"/>
    <parent link="link_handle~handle6_convex_piece_55"/>
    <child link="link_handle~handle6_convex_piece_56"/>
  </joint>
  <link name="link_handle~handle6_convex_piece_57">
    <inertial>
      <origin xyz="0 0 0" rpy="0 0 0"/>
      <mass value="7.59E-04"/>
      <inertia ixx="8.75E-08" ixy="2.42E-07" ixz="-4.07E-07" iyy="3.03E-06" iyz="3.38E-08" izz="2.99E-06"/>
    </inertial>
    <visual>
      <origin xyz="0 0 0" rpy="0 0 0"/>
      <geometry>
        <mesh filename="handle~handle6_convex_piece_57.obj" scale="1.0000E+00 1.0000E+00 1.0000E+00"/>
      </geometry>
      <material name=""/>
    </visual>
    <collision>
      <origin xyz="0 0 0" rpy="0 0 0"/>
      <geometry>
        <mesh filename="handle~handle6_convex_piece_57.obj" scale="1.0000E+00 1.0000E+00 1.0000E+00"/>
      </geometry>
    </collision>
  </link>
  <joint name="link_handle~handle6_convex_piece_57_joint" type="fixed">
    <origin xyz="0 0 0" rpy="0 0 0"/>
    <parent link="link_handle~handle6_convex_piece_56"/>
    <child link="link_handle~handle6_convex_piece_57"/>
  </joint>
  <link name="link_handle~handle6_convex_piece_58">
    <inertial>
      <origin xyz="0 0 0" rpy="0 0 0"/>
      <mass value="3.18E-03"/>
      <inertia ixx="3.87E-07" ixy="-7.10E-08" ixz="-1.73E-07" iyy="5.83E-07" iyz="-1.25E-07" izz="3.73E-07"/>
    </inertial>
    <visual>
      <origin xyz="0 0 0" rpy="0 0 0"/>
      <geometry>
        <mesh filename="handle~handle6_convex_piece_58.obj" scale="1.0000E+00 1.0000E+00 1.0000E+00"/>
      </geometry>
      <material name=""/>
    </visual>
    <collision>
      <origin xyz="0 0 0" rpy="0 0 0"/>
      <geometry>
        <mesh filename="handle~handle6_convex_piece_58.obj" scale="1.0000E+00 1.0000E+00 1.0000E+00"/>
      </geometry>
    </collision>
  </link>
  <joint name="link_handle~handle6_convex_piece_58_joint" type="fixed">
    <origin xyz="0 0 0" rpy="0 0 0"/>
    <parent link="link_handle~handle6_convex_piece_57"/>
    <child link="link_handle~handle6_convex_piece_58"/>
  </joint>
  <link name="link_handle~handle6_convex_piece_59">
    <inertial>
      <origin xyz="0 0 0" rpy="0 0 0"/>
      <mass value="1.89E-04"/>
      <inertia ixx="3.51E-09" ixy="-3.07E-09" ixz="1.99E-08" iyy="2.07E-07" iyz="1.17E-10" izz="2.06E-07"/>
    </inertial>
    <visual>
      <origin xyz="0 0 0" rpy="0 0 0"/>
      <geometry>
        <mesh filename="handle~handle6_convex_piece_59.obj" scale="1.0000E+00 1.0000E+00 1.0000E+00"/>
      </geometry>
      <material name=""/>
    </visual>
    <collision>
      <origin xyz="0 0 0" rpy="0 0 0"/>
      <geometry>
        <mesh filename="handle~handle6_convex_piece_59.obj" scale="1.0000E+00 1.0000E+00 1.0000E+00"/>
      </geometry>
    </collision>
  </link>
  <joint name="link_handle~handle6_convex_piece_59_joint" type="fixed">
    <origin xyz="0 0 0" rpy="0 0 0"/>
    <parent link="link_handle~handle6_convex_piece_58"/>
    <child link="link_handle~handle6_convex_piece_59"/>
  </joint>
  <link name="link_handle~handle6_convex_piece_60">
    <inertial>
      <origin xyz="0 0 0" rpy="0 0 0"/>
      <mass value="4.02E-04"/>
      <inertia ixx="2.12E-07" ixy="-1.26E-08" ixz="-2.24E-07" iyy="4.51E-07" iyz="-1.13E-08" izz="2.48E-07"/>
    </inertial>
    <visual>
      <origin xyz="0 0 0" rpy="0 0 0"/>
      <geometry>
        <mesh filename="handle~handle6_convex_piece_60.obj" scale="1.0000E+00 1.0000E+00 1.0000E+00"/>
      </geometry>
      <material name=""/>
    </visual>
    <collision>
      <origin xyz="0 0 0" rpy="0 0 0"/>
      <geometry>
        <mesh filename="handle~handle6_convex_piece_60.obj" scale="1.0000E+00 1.0000E+00 1.0000E+00"/>
      </geometry>
    </collision>
  </link>
  <joint name="link_handle~handle6_convex_piece_60_joint" type="fixed">
    <origin xyz="0 0 0" rpy="0 0 0"/>
    <parent link="link_handle~handle6_convex_piece_59"/>
    <child link="link_handle~handle6_convex_piece_60"/>
  </joint>
  <link name="link_handle~handle6_convex_piece_61">
    <inertial>
      <origin xyz="0 0 0" rpy="0 0 0"/>
      <mass value="1.07E-04"/>
      <inertia ixx="5.36E-09" ixy="2.99E-08" ixz="-1.16E-08" iyy="2.36E-07" iyz="1.75E-09" izz="2.40E-07"/>
    </inertial>
    <visual>
      <origin xyz="0 0 0" rpy="0 0 0"/>
      <geometry>
        <mesh filename="handle~handle6_convex_piece_61.obj" scale="1.0000E+00 1.0000E+00 1.0000E+00"/>
      </geometry>
      <material name=""/>
    </visual>
    <collision>
      <origin xyz="0 0 0" rpy="0 0 0"/>
      <geometry>
        <mesh filename="handle~handle6_convex_piece_61.obj" scale="1.0000E+00 1.0000E+00 1.0000E+00"/>
      </geometry>
    </collision>
  </link>
  <joint name="link_handle~handle6_convex_piece_61_joint" type="fixed">
    <origin xyz="0 0 0" rpy="0 0 0"/>
    <parent link="link_handle~handle6_convex_piece_60"/>
    <child link="link_handle~handle6_convex_piece_61"/>
  </joint>
  <link name="link_handle~handle6_convex_piece_62">
    <inertial>
      <origin xyz="0 0 0" rpy="0 0 0"/>
      <mass value="2.34E-04"/>
      <inertia ixx="1.57E-07" ixy="-2.27E-08" ixz="-1.72E-07" iyy="3.49E-07" iyz="-2.00E-08" izz="1.99E-07"/>
    </inertial>
    <visual>
      <origin xyz="0 0 0" rpy="0 0 0"/>
      <geometry>
        <mesh filename="handle~handle6_convex_piece_62.obj" scale="1.0000E+00 1.0000E+00 1.0000E+00"/>
      </geometry>
      <material name=""/>
    </visual>
    <collision>
      <origin xyz="0 0 0" rpy="0 0 0"/>
      <geometry>
        <mesh filename="handle~handle6_convex_piece_62.obj" scale="1.0000E+00 1.0000E+00 1.0000E+00"/>
      </geometry>
    </collision>
  </link>
  <joint name="link_handle~handle6_convex_piece_62_joint" type="fixed">
    <origin xyz="0 0 0" rpy="0 0 0"/>
    <parent link="link_handle~handle6_convex_piece_61"/>
    <child link="link_handle~handle6_convex_piece_62"/>
  </joint>
  <link name="link_handle~handle6_convex_piece_63">
    <inertial>
      <origin xyz="0 0 0" rpy="0 0 0"/>
      <mass value="5.14E-03"/>
      <inertia ixx="7.34E-07" ixy="-1.15E-09" ixz="-1.84E-06" iyy="7.16E-06" iyz="-2.07E-10" izz="6.74E-06"/>
    </inertial>
    <visual>
      <origin xyz="0 0 0" rpy="0 0 0"/>
      <geometry>
        <mesh filename="handle~handle6_convex_piece_63.obj" scale="1.0000E+00 1.0000E+00 1.0000E+00"/>
      </geometry>
      <material name=""/>
    </visual>
    <collision>
      <origin xyz="0 0 0" rpy="0 0 0"/>
      <geometry>
        <mesh filename="handle~handle6_convex_piece_63.obj" scale="1.0000E+00 1.0000E+00 1.0000E+00"/>
      </geometry>
    </collision>
  </link>
  <joint name="link_handle~handle6_convex_piece_63_joint" type="fixed">
    <origin xyz="0 0 0" rpy="0 0 0"/>
    <parent link="link_handle~handle6_convex_piece_62"/>
    <child link="link_handle~handle6_convex_piece_63"/>
  </joint>
</robot>
